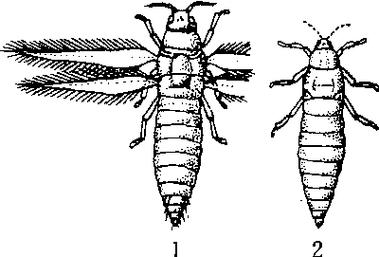Thripidae: (1, 2, 256, 232)
